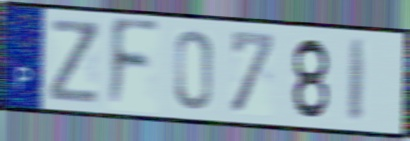0: (172, 28, 214, 112)
7: (228, 28, 276, 117)
8: (291, 36, 330, 120)
F: (105, 15, 162, 114)
I: (346, 37, 370, 126)
Z: (48, 16, 101, 107)
